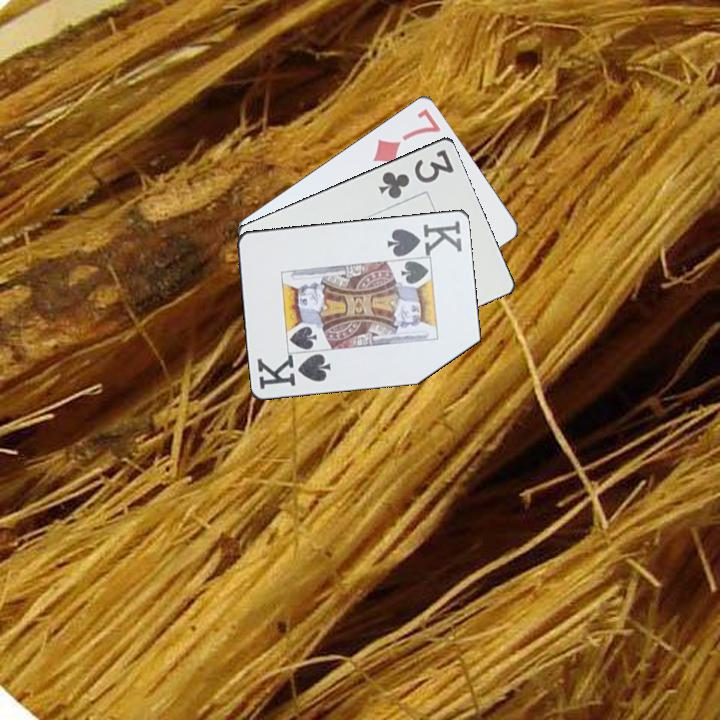3c: (375, 145, 457, 202)
7d: (369, 104, 444, 166)
Ks: (384, 216, 465, 258), (254, 350, 334, 392)
